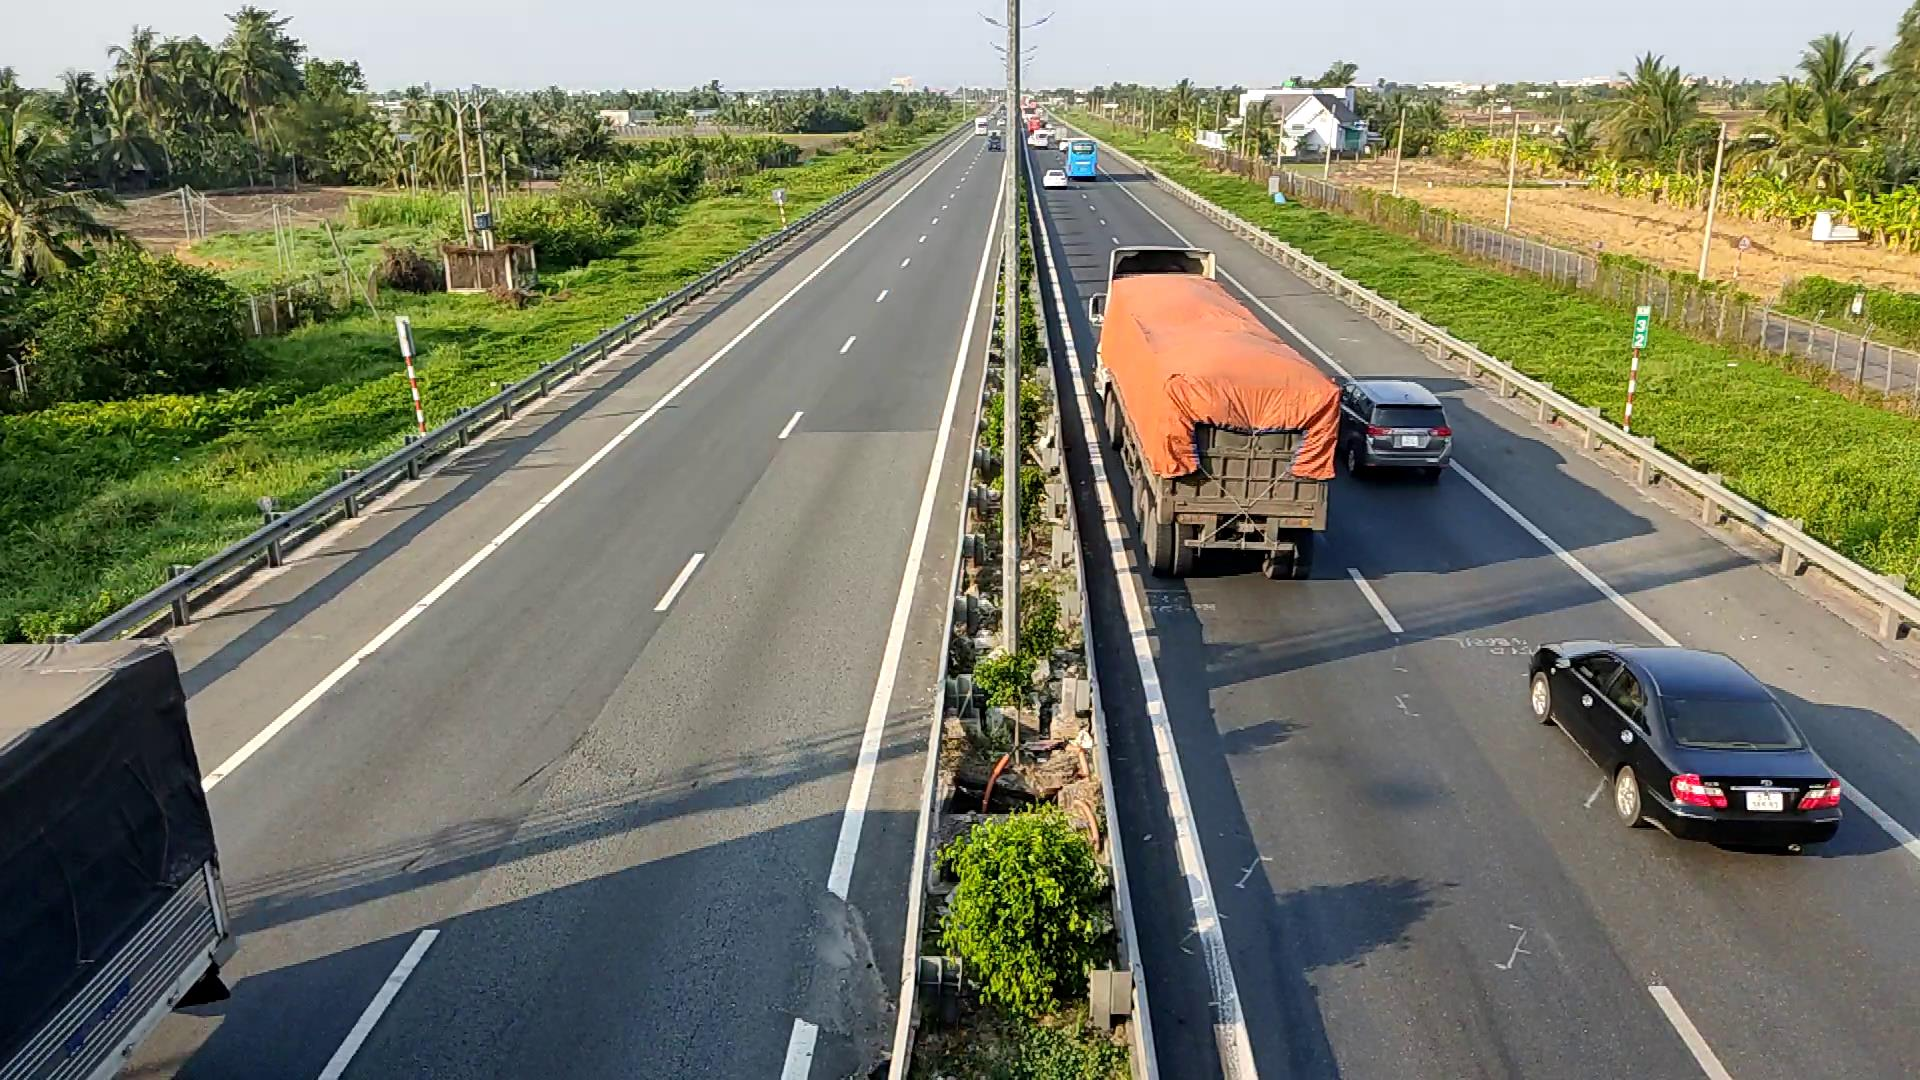car: (1527, 638, 1844, 852), (1336, 376, 1452, 479)
truck: (1091, 247, 1341, 578)
